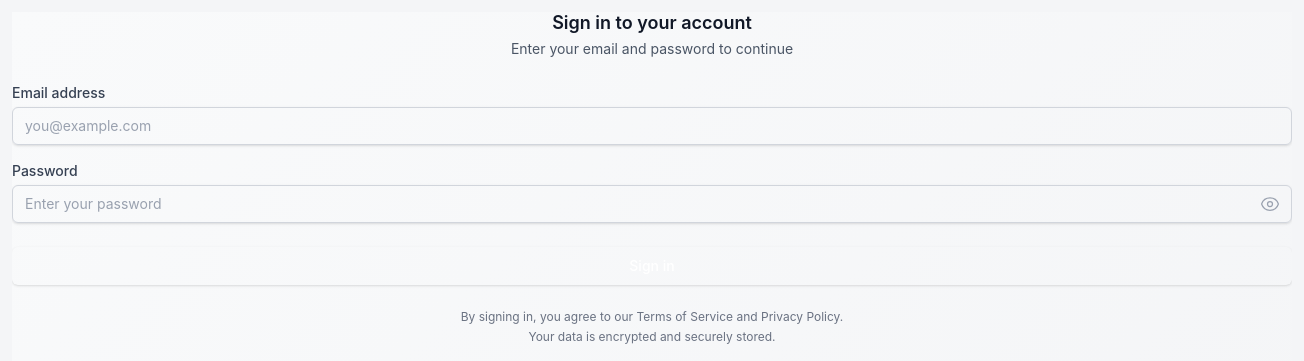
Test: PasswordLoginForm › Password Visibility Toggle › should update toggle button aria-label
Click the button named "show password". click: click(1276, 204)
box: x1=1260 y1=184 x2=1292 y2=222
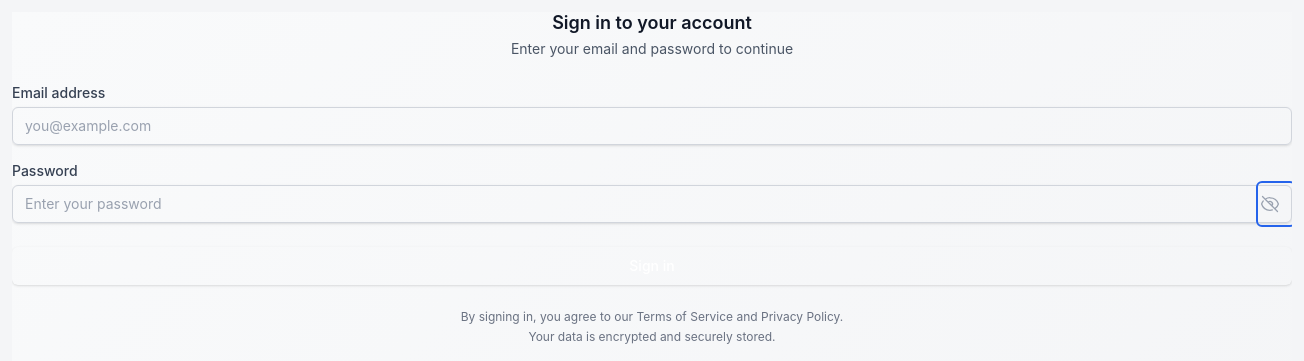
Expected: the button named "hide password" is shown, x1=1260 y1=184 x2=1292 y2=222
